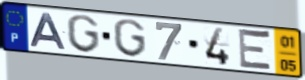4: (203, 26, 231, 67)
7: (154, 21, 184, 62)
A: (28, 12, 69, 51)
E: (238, 26, 274, 74)
G: (112, 18, 149, 60), (66, 14, 102, 55)
